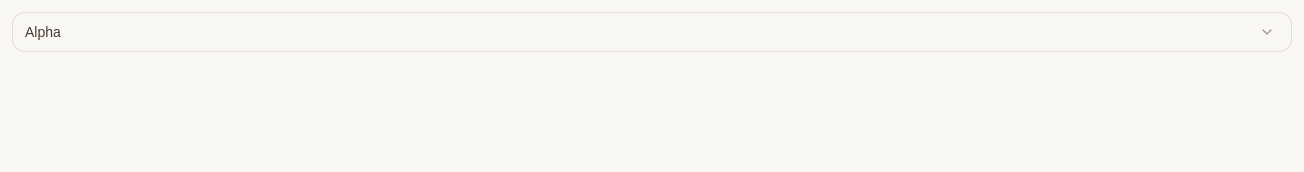
Test: admin select with a label › renders the group label
The image size is (1304, 172).
What coordinates should you click on to do the following:
click the dropdown
I would click on:
 (43, 32)
Its box is [12,12,1292,52].
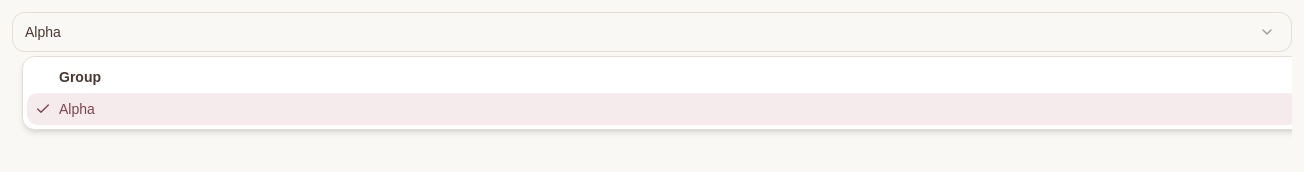
Check: the text "Group" is shown, box [59,69,101,85]
